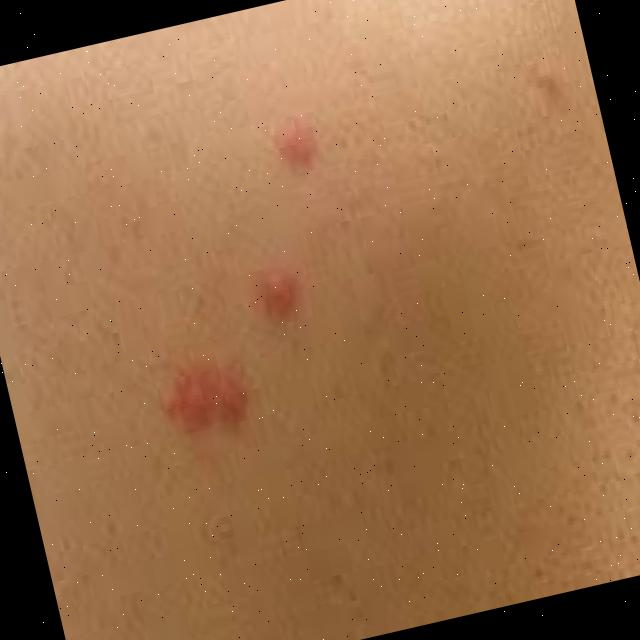tahta-kurusu: (132, 334, 261, 464), (242, 84, 355, 193), (242, 229, 341, 345)
